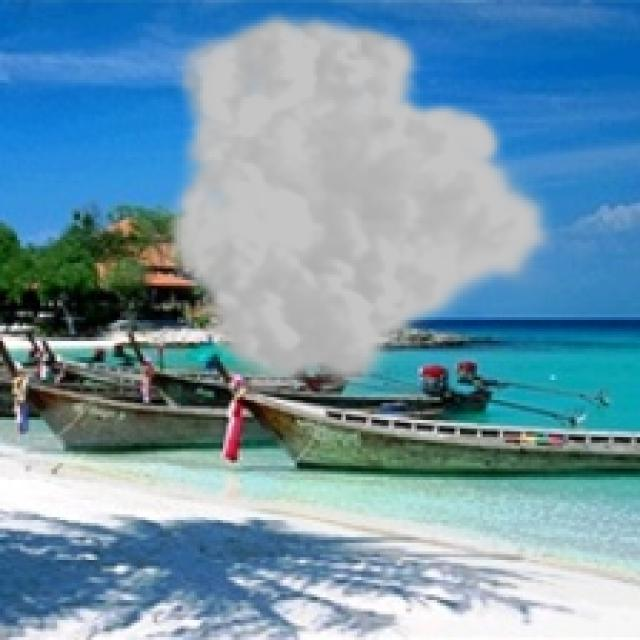smoke: (163, 6, 560, 400)
